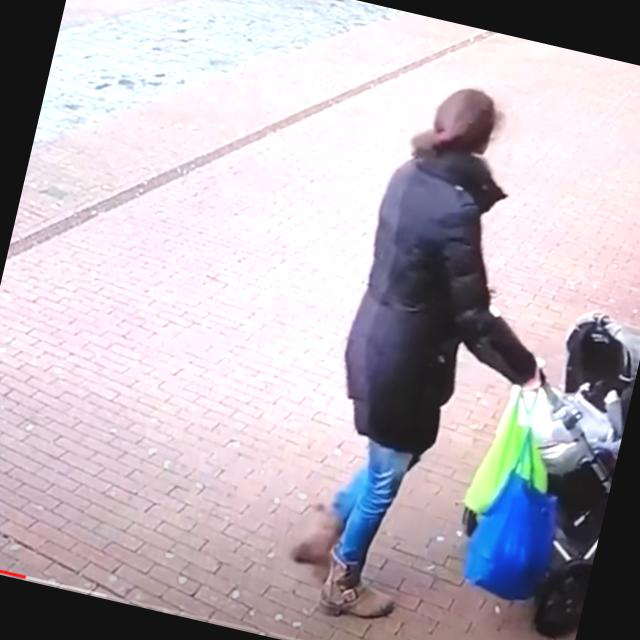person: (278, 70, 593, 640)
